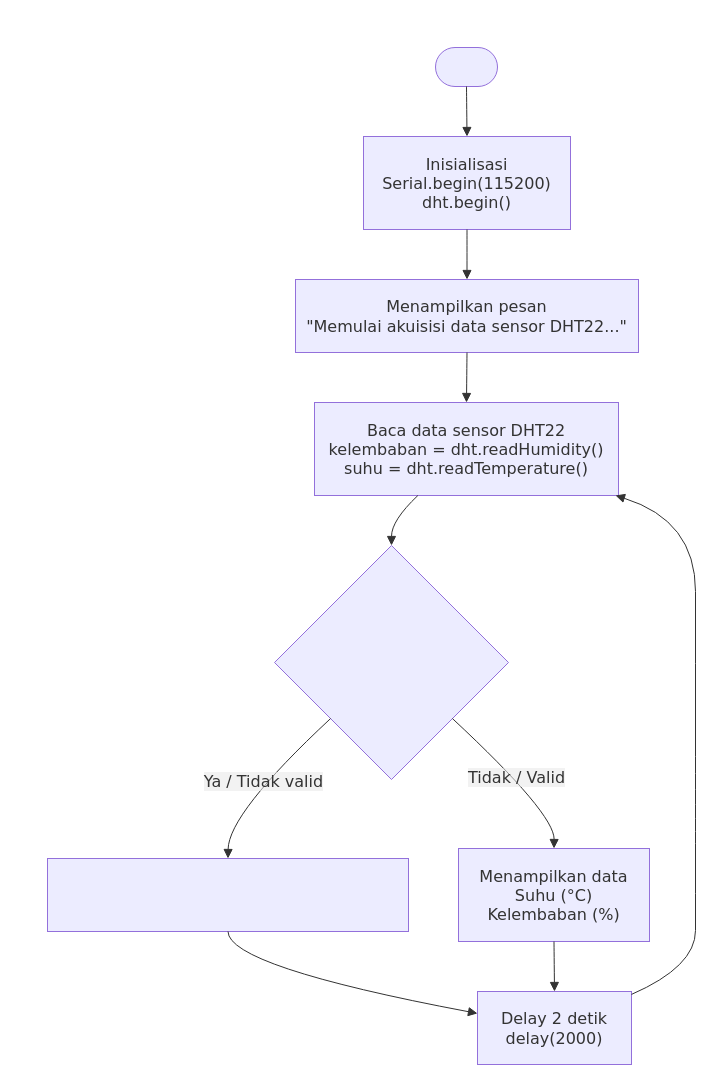
Some shapes in this 713 by 1082 pixel diagram are drawn without their labels. The shapes that lost their labels are listed below. From the top down, each one's centre as x and y in pixels, then its label:
(466,66): Mulai
(391,662): Apakah data valid? isnan(kelembaban) atau isnan(suhu)
(227,895): Menampilkan pesan "Gagal membaca data dari sensor DHT22!"
